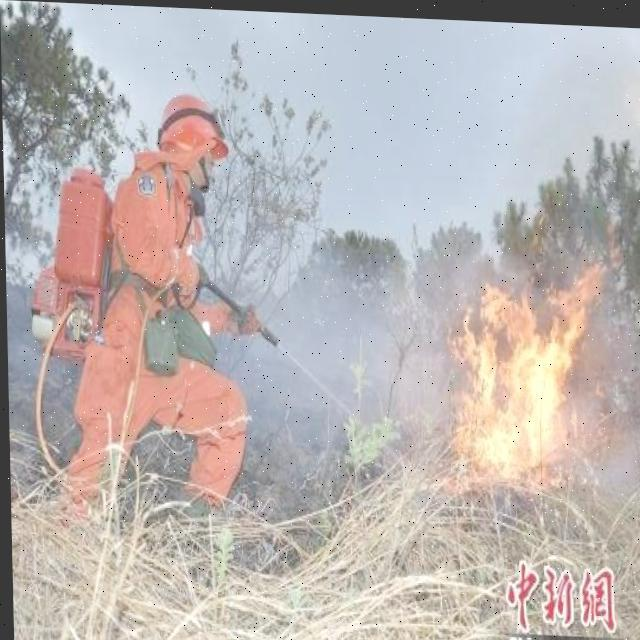Fire: (444, 240, 610, 493)
